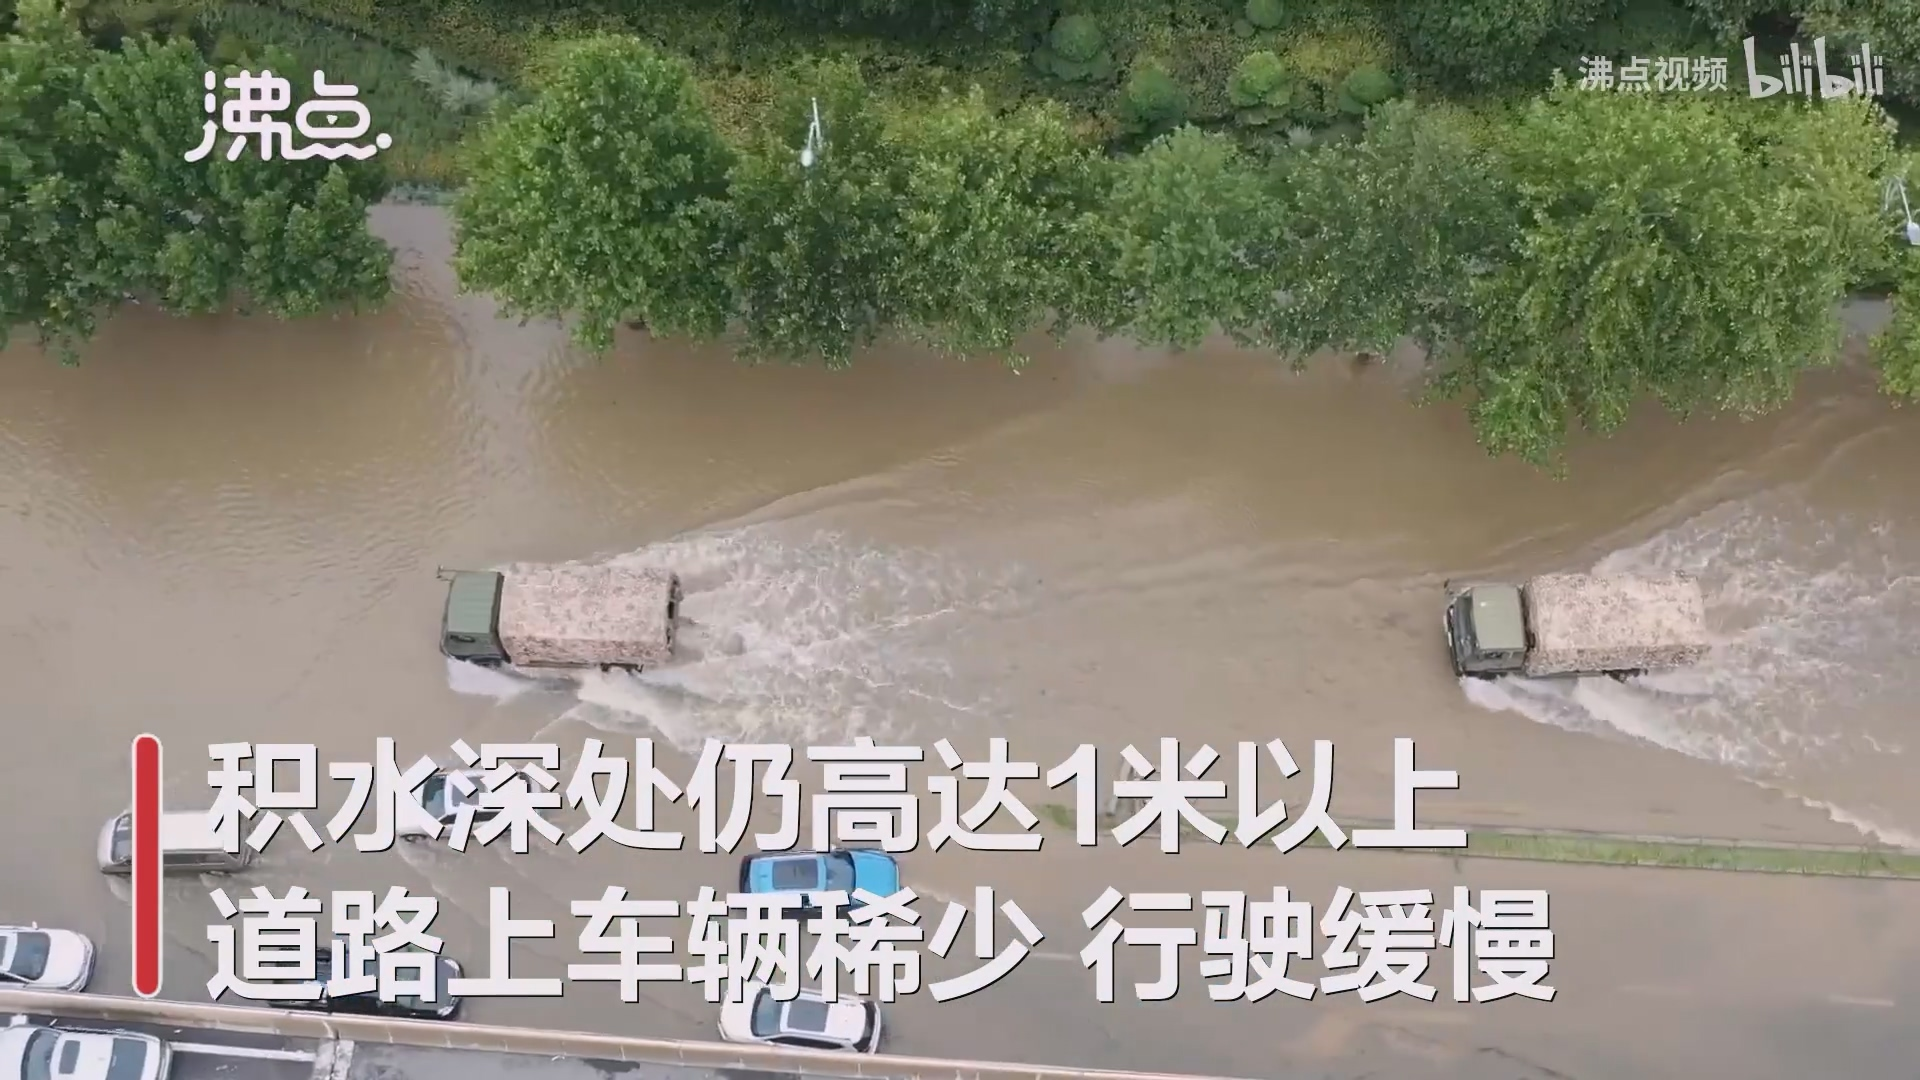puddle: (18, 295, 1867, 753)
